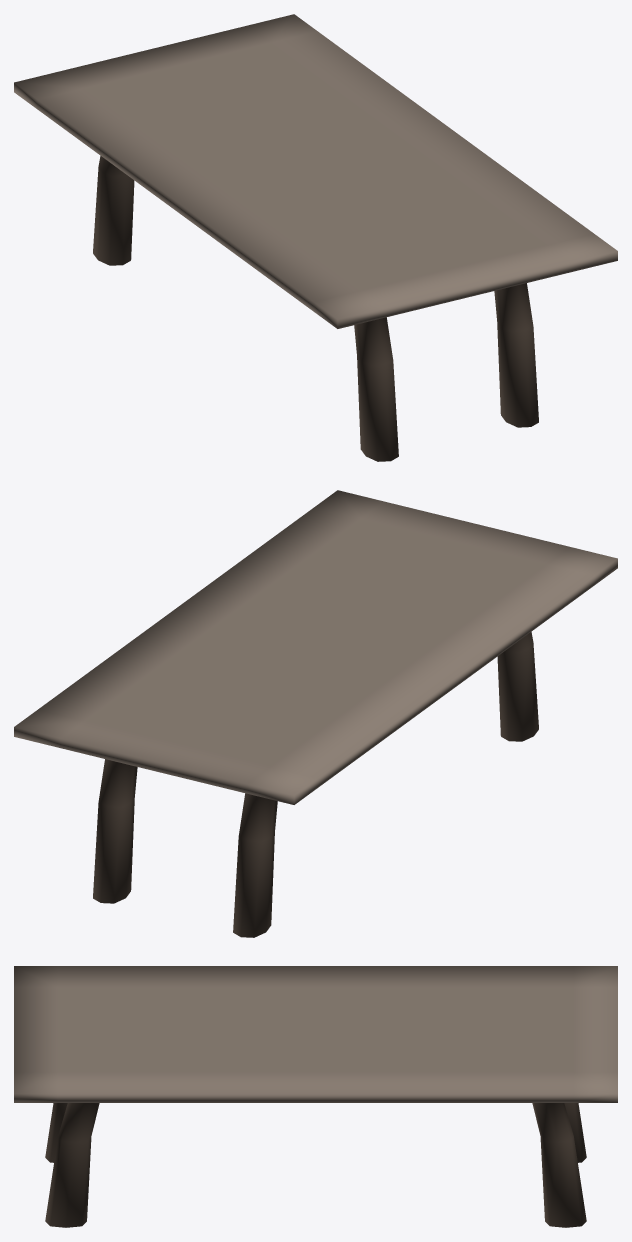
Rendered from Table.fbx.
3 views of the same model, one above another, from view 1: azimuth 30°, elevation 25°; view 2: azimuth 150°, elevation 25°; view 3: azimuth 270°, elevation 25° (orthographic). The views are drawn at different scales.
Visible parts, largest first — view 1: Table; view 2: Table; view 3: Table.
Boxes of the visible parts, x1=… form: Table: x1=14, y1=14, x2=617, y2=461; Table: x1=14, y1=490, x2=617, y2=937; Table: x1=14, y1=966, x2=617, y2=1227.
Size of the model in its own units: 600 by 350 by 1200.
